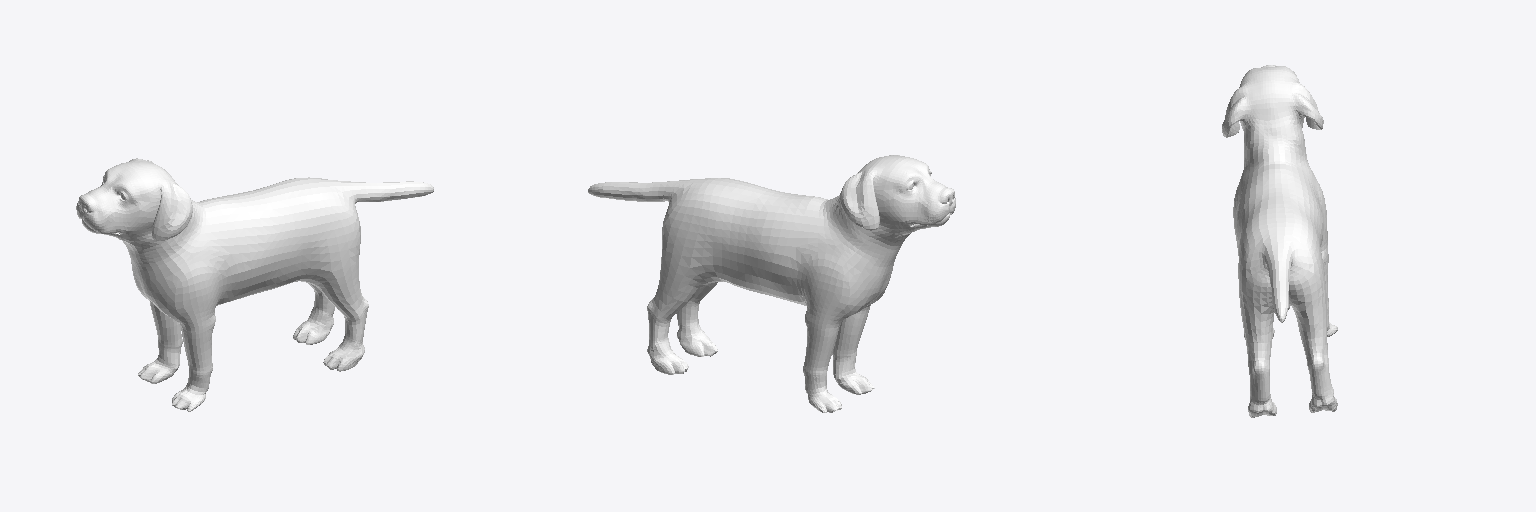
File: 12228_Dog_v1_L2.obj
The picture shows the model from 3 angles: view 1: azimuth 30°, elevation 25°; view 2: azimuth 150°, elevation 25°; view 3: azimuth 270°, elevation 25°; orthographic projection.
Visible parts, largest first — view 1: Malla de Dog_body; view 2: Malla de Dog_body; view 3: Malla de Dog_body.
Part boxes in pixels (x1,y1,x2,y2): Malla de Dog_body: (76, 158, 433, 411); Malla de Dog_body: (588, 155, 955, 412); Malla de Dog_body: (1222, 65, 1337, 417).
Bounding box in the file's own units: 53.77 × 35.45 × 15.23.